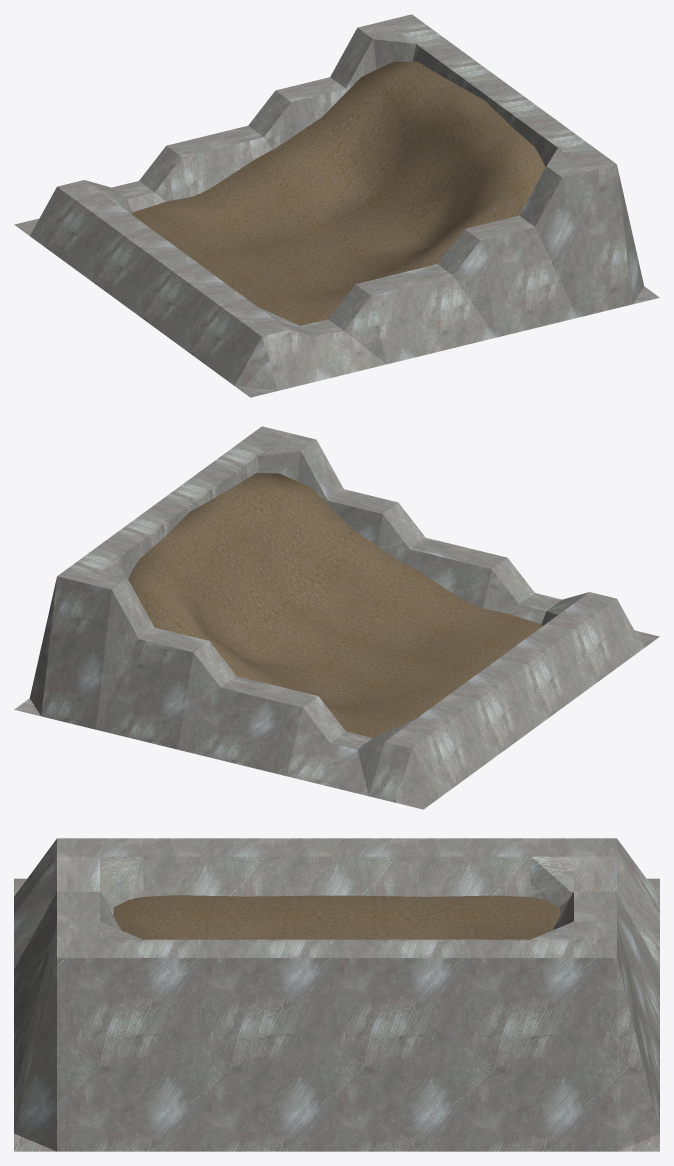
Rendered from sunshine.obj.
3 views of the same model, one above another, from view 1: azimuth 30°, elevation 25°; view 2: azimuth 150°, elevation 25°; view 3: azimuth 270°, elevation 25° (orthographic). The views are drawn at different scales.
Visible parts, largest first — view 1: Grid_Grid_None_metal047.jpg, Plane_Plane_Material.001_sand017.jpg; view 2: Grid_Grid_None_metal047.jpg, Plane_Plane_Material.001_sand017.jpg; view 3: Grid_Grid_None_metal047.jpg, Plane_Plane_Material.001_sand017.jpg.
Part boxes in pixels (x1,y1,x2,y2): Grid_Grid_None_metal047.jpg: [14, 14, 659, 397]; Plane_Plane_Material.001_sand017.jpg: [132, 61, 545, 325]; Grid_Grid_None_metal047.jpg: [14, 426, 659, 809]; Plane_Plane_Material.001_sand017.jpg: [128, 473, 542, 737]; Grid_Grid_None_metal047.jpg: [14, 838, 659, 1151]; Plane_Plane_Material.001_sand017.jpg: [113, 895, 560, 939].
Bounding box in the file's own units: 60 × 18 × 60.
2 materials, 2 textured.
